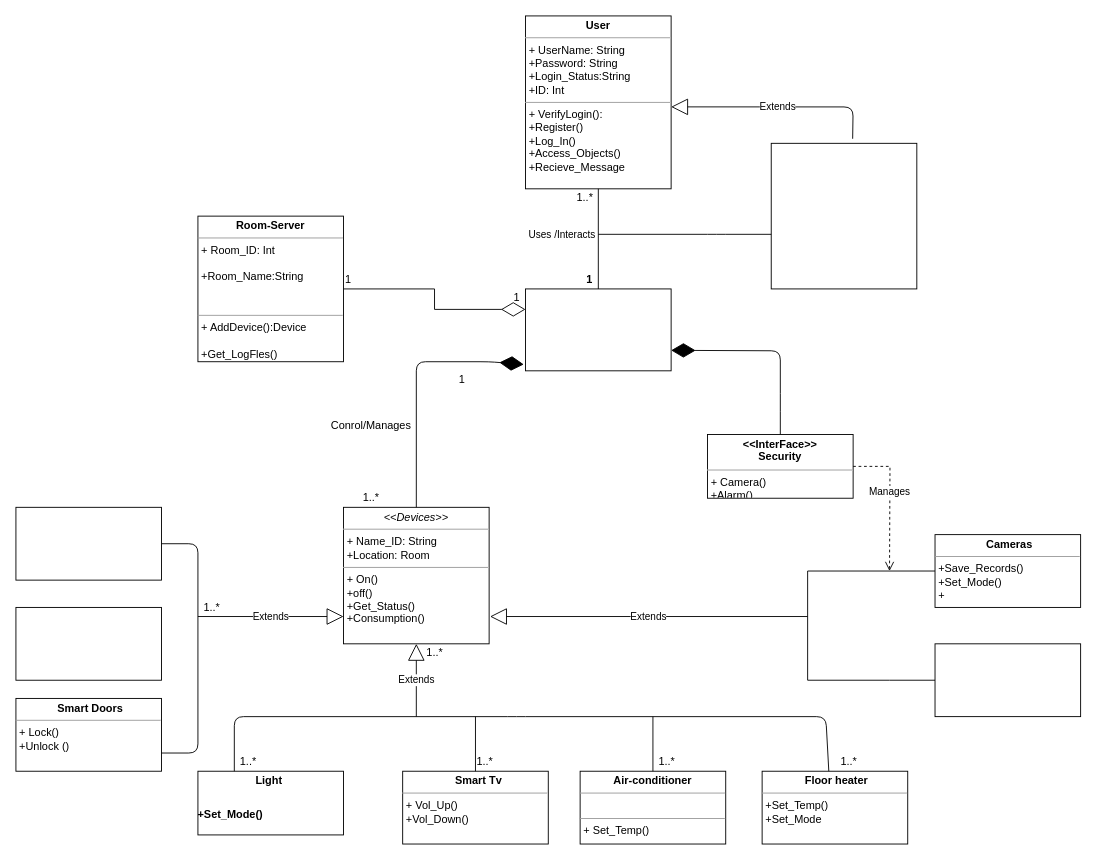
Image size: 1097x860. Some labels were removed from this diagram. Each missing label, with the centre of its shape:
"Admin +AddUser() +DeleteUser() +Edit_Data()" goes at (843,215).
"Alarms +Modifiy() +Return_Emergency()" goes at (1007,680).
"Application + Automation() +Security()" goes at (598,329).
"Smart Speakers + Vol_Up() +Vol_Down()" goes at (88,543).
"Windows +Lock () +Unlock() +Set_Mode()" goes at (88,643).
